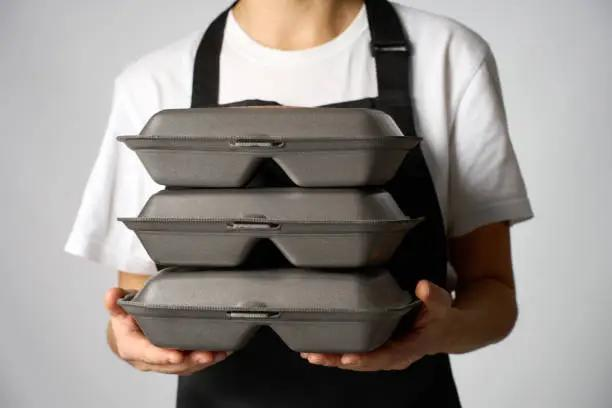glass: (115, 269, 426, 354), (115, 107, 418, 189), (114, 190, 421, 270)
